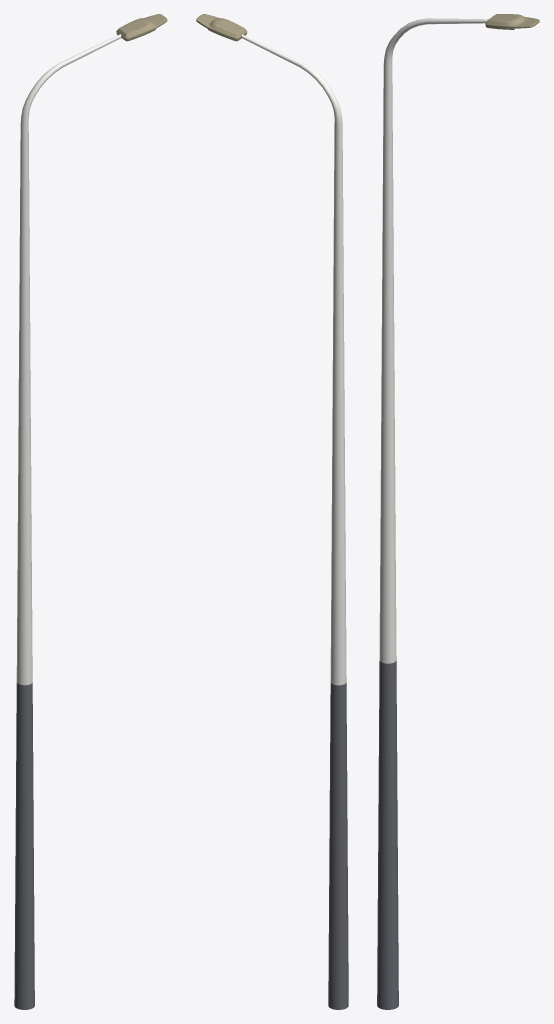
Rendered from SM_FT_LIGHT.glb.
3 views of the same model, side by side, from view 1: azimuth 30°, elevation 25°; view 2: azimuth 150°, elevation 25°; view 3: azimuth 330°, elevation 25° (orthographic). The views are drawn at different scales.
Parts seen in each view (by area): view 1: SM_FT_LIGHT; view 2: SM_FT_LIGHT; view 3: SM_FT_LIGHT.
Part boxes in pixels (left/top/right/bottom): SM_FT_LIGHT: left=14, top=14, right=167, bottom=1009; SM_FT_LIGHT: left=196, top=14, right=348, bottom=1009; SM_FT_LIGHT: left=377, top=14, right=539, bottom=1009.
Bounding box in the file's own units: 1.67 × 10.27 × 0.25.
